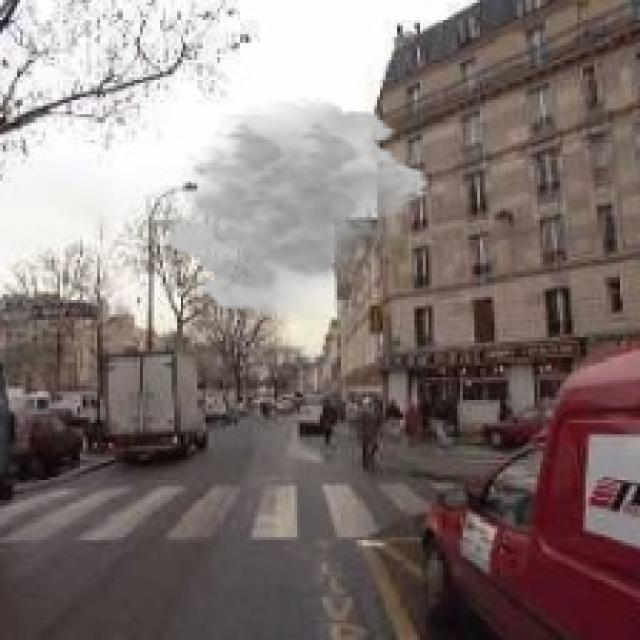smoke: (163, 97, 431, 323)
